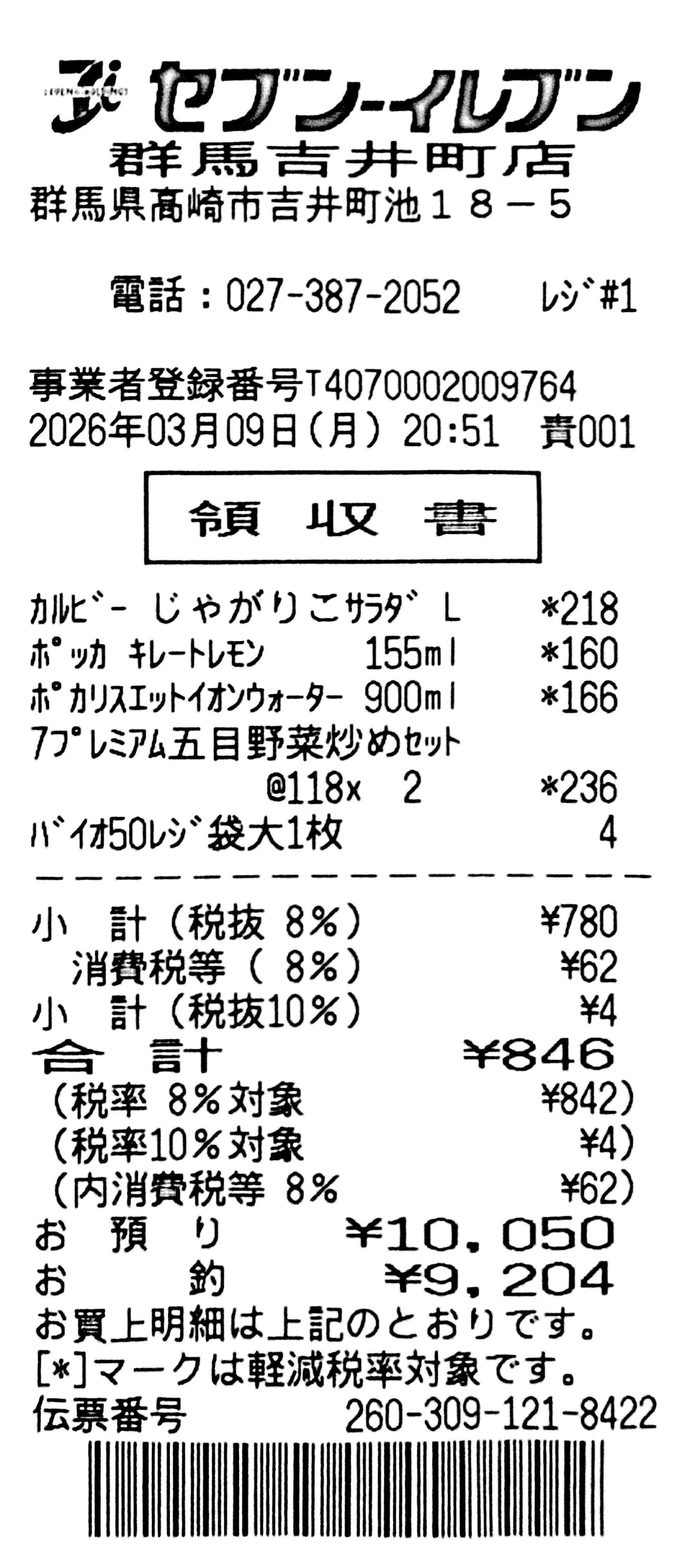Date: (28, 411, 297, 449)
Pay: (32, 1037, 615, 1075)
Shopname: (149, 61, 642, 133)
Telnum: (224, 274, 464, 316)
